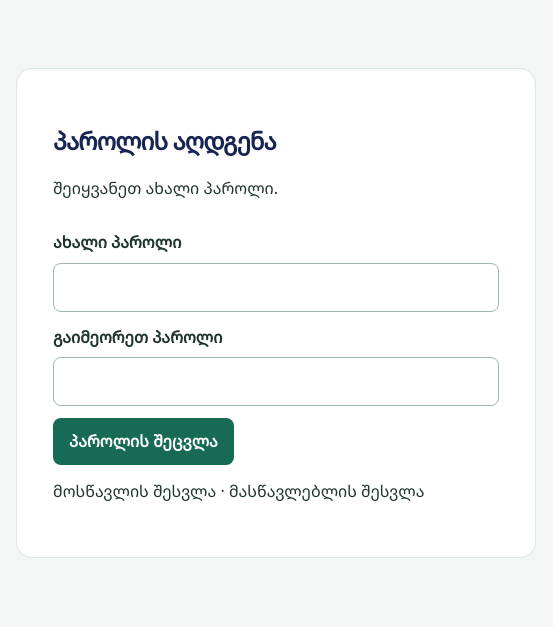
Test: does not claim success when the update fails
Type "long-password-1" into the password field labelled "ახალი პაროლი" at (276, 287), box [53,263,499,312]
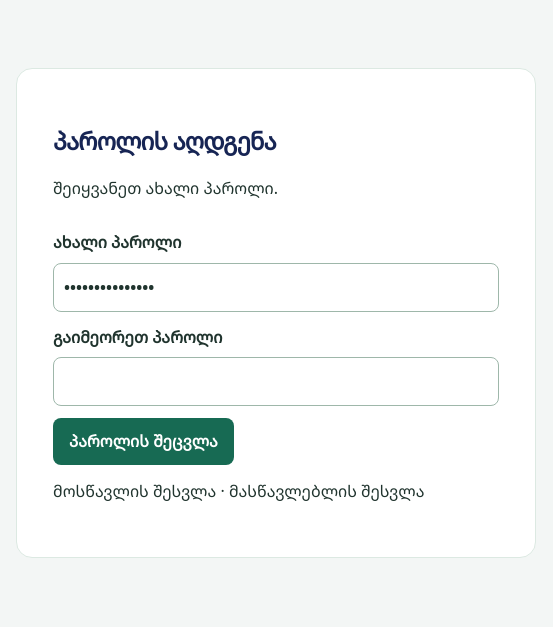
Type "long-password-1" into the password field labelled "გაიმეორეთ პაროლი" at (276, 382), box [53,357,499,406]
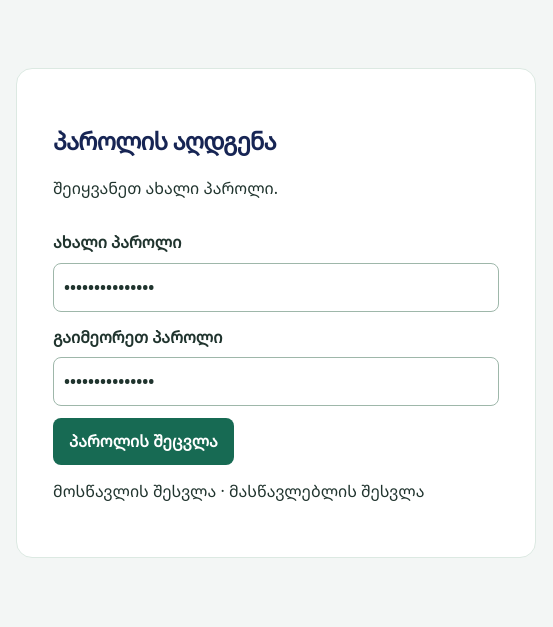
Click the button "პაროლის შეცვლა" at (143, 442), box [53,418,234,465]
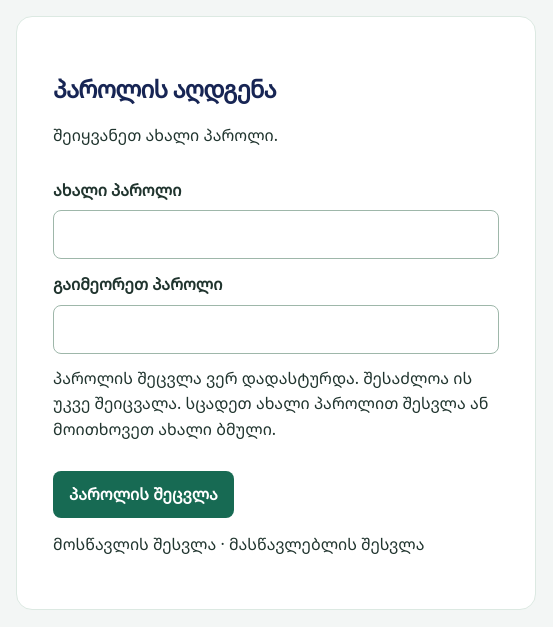
Now the message shows "ვერ დადასტურდა", box [53,367,488,440]
Now the password field labelled "ახალი პაროლი" is empty, box [53,210,499,259]
